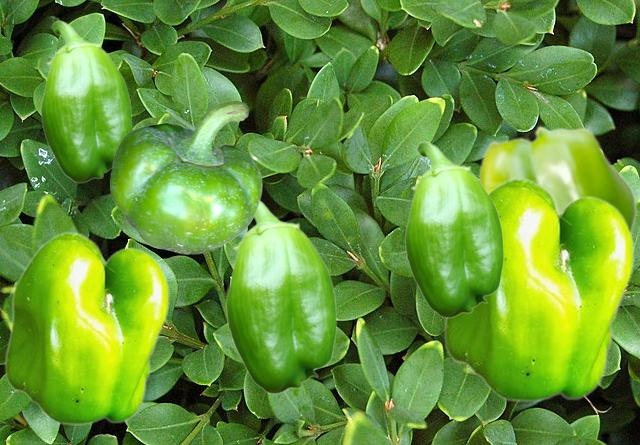bell_pepper: (443, 177, 633, 401), (4, 231, 168, 424), (110, 100, 261, 253), (225, 200, 336, 393), (404, 141, 503, 317), (478, 125, 636, 234), (40, 20, 131, 182)
